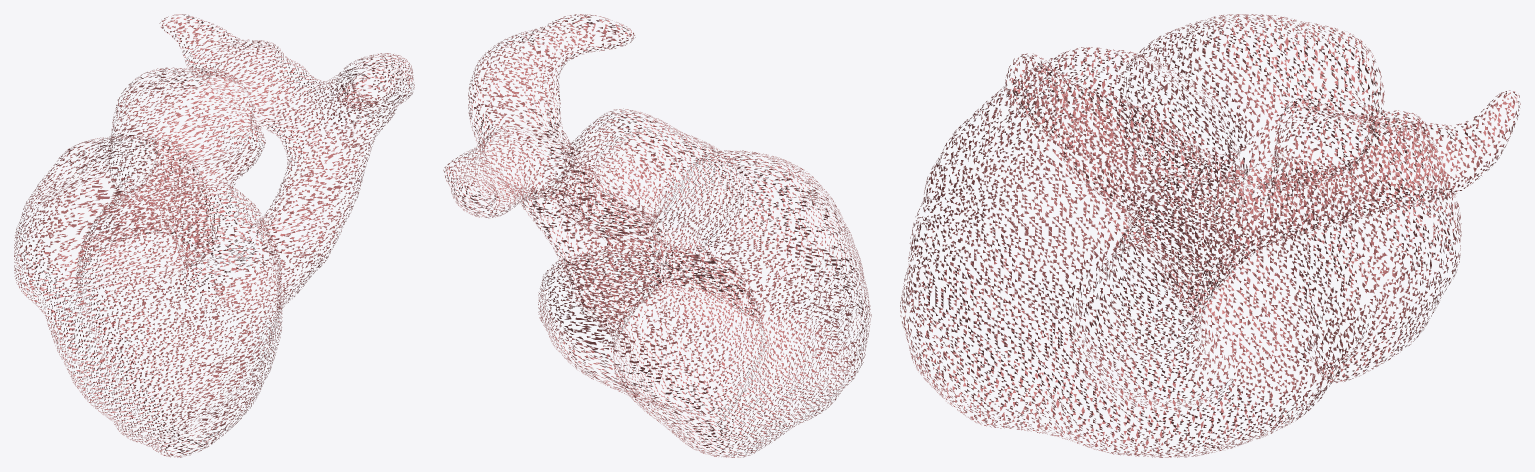
The model's file is heart.glb.
3 views of the same model, side by side, from view 1: azimuth 30°, elevation 25°; view 2: azimuth 150°, elevation 25°; view 3: azimuth 270°, elevation 25° (orthographic). The views are drawn at different scales.
Size of the model in its own units: 132 by 125 by 133.
